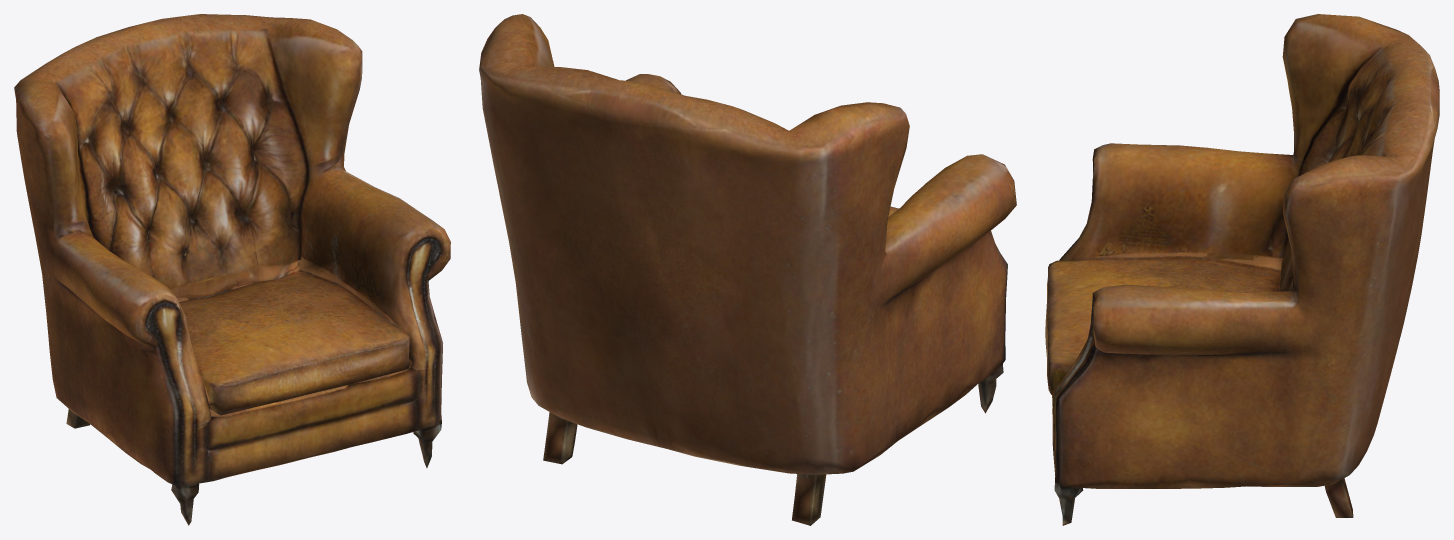
The model's file is vin_arm_chair.glb.
3 renders of one model, left to right at view 1: azimuth 30°, elevation 25°; view 2: azimuth 150°, elevation 25°; view 3: azimuth 270°, elevation 25°, orthographic. The views are drawn at different scales.
Parts seen in each view (by area): view 1: Mesh1; view 2: Mesh1; view 3: Mesh1.
Part boxes in pixels (box(x1,y1,x2,y2)): Mesh1: box(14, 14, 450, 525); Mesh1: box(479, 14, 1016, 525); Mesh1: box(1045, 14, 1439, 525).
Bounding box in the file's own units: 0.961 × 1 × 0.9339.
Materials: 1 (1 with a texture image).
